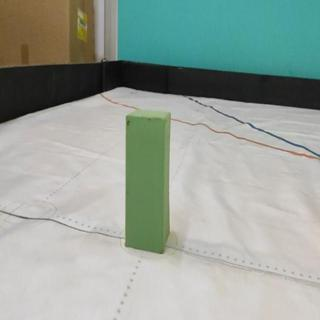greenbox: (125, 111, 172, 254)
